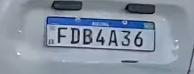Placa_mercosul_carro: (45, 16, 156, 52)
